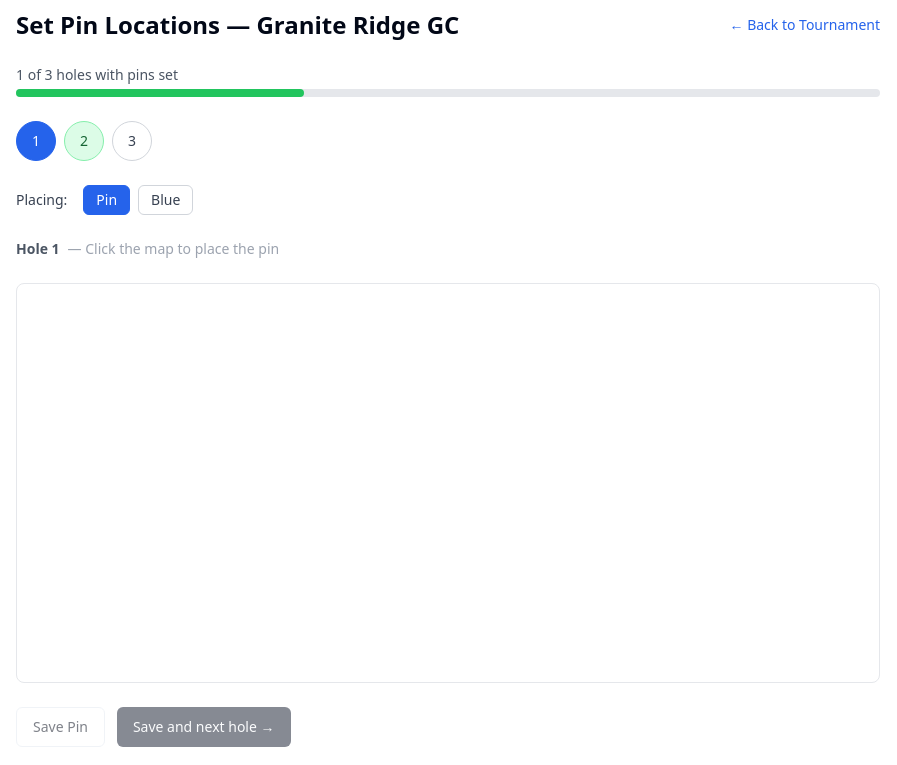
PinPlacementMap › shows tee select dropdown when hole has multiple tees
Note: Navigate to hole 3 which has 2 tees
Click the button named "hole 3".
click(132, 141)  # box [112,121,152,161]
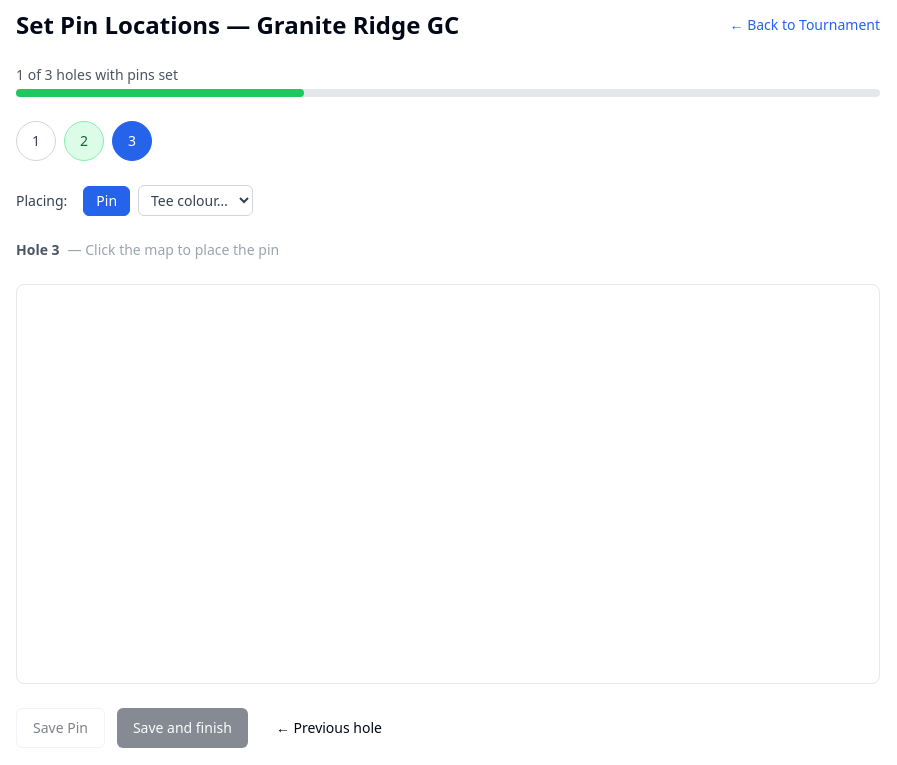
Check: the dropdown named "select tee colour" is shown, box [138,185,253,216]
